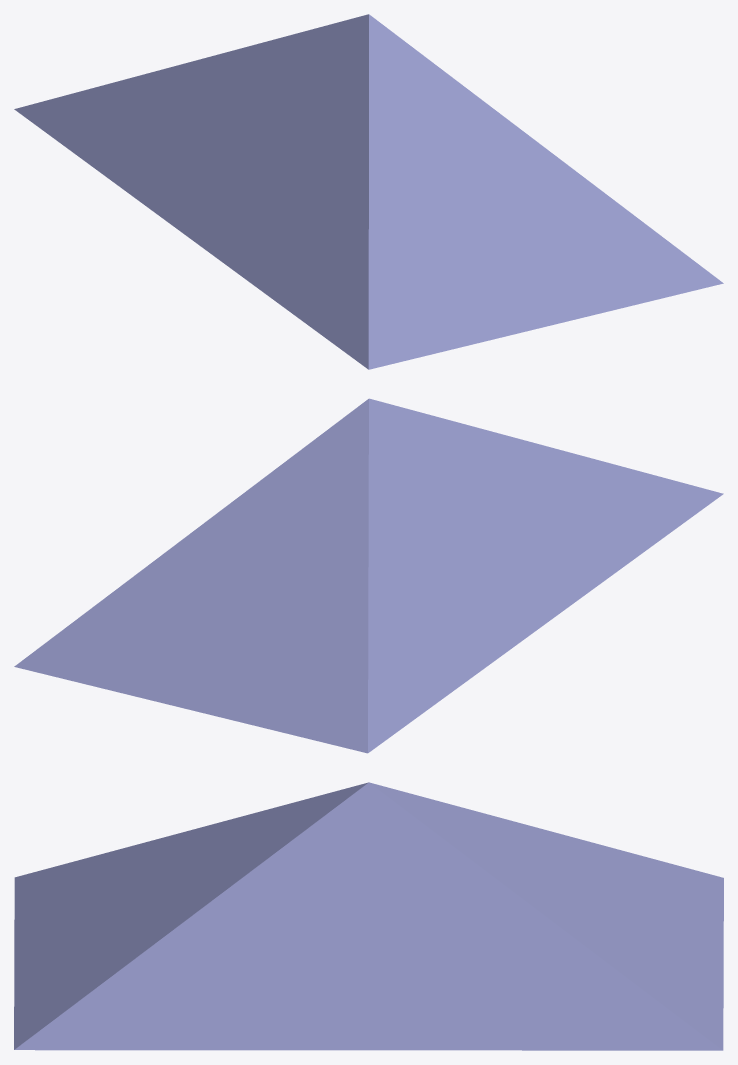
The model's file is debrisb6.fbx.
The picture shows the model from 3 angles, top to bottom: view 1: azimuth 30°, elevation 25°; view 2: azimuth 150°, elevation 25°; view 3: azimuth 270°, elevation 25°; orthographic projection.
Parts seen in each view (by area): view 1: Pyramid02; view 2: Pyramid02; view 3: Pyramid02.
Part boxes in pixels (x1,y1,x2,y2): Pyramid02: [14, 14, 723, 369]; Pyramid02: [14, 398, 723, 753]; Pyramid02: [14, 782, 723, 1050].
Bounding box in the file's own units: 503 × 246 × 872.
